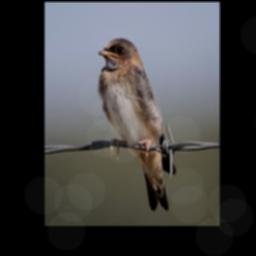Swallow: (97, 35, 178, 211)
